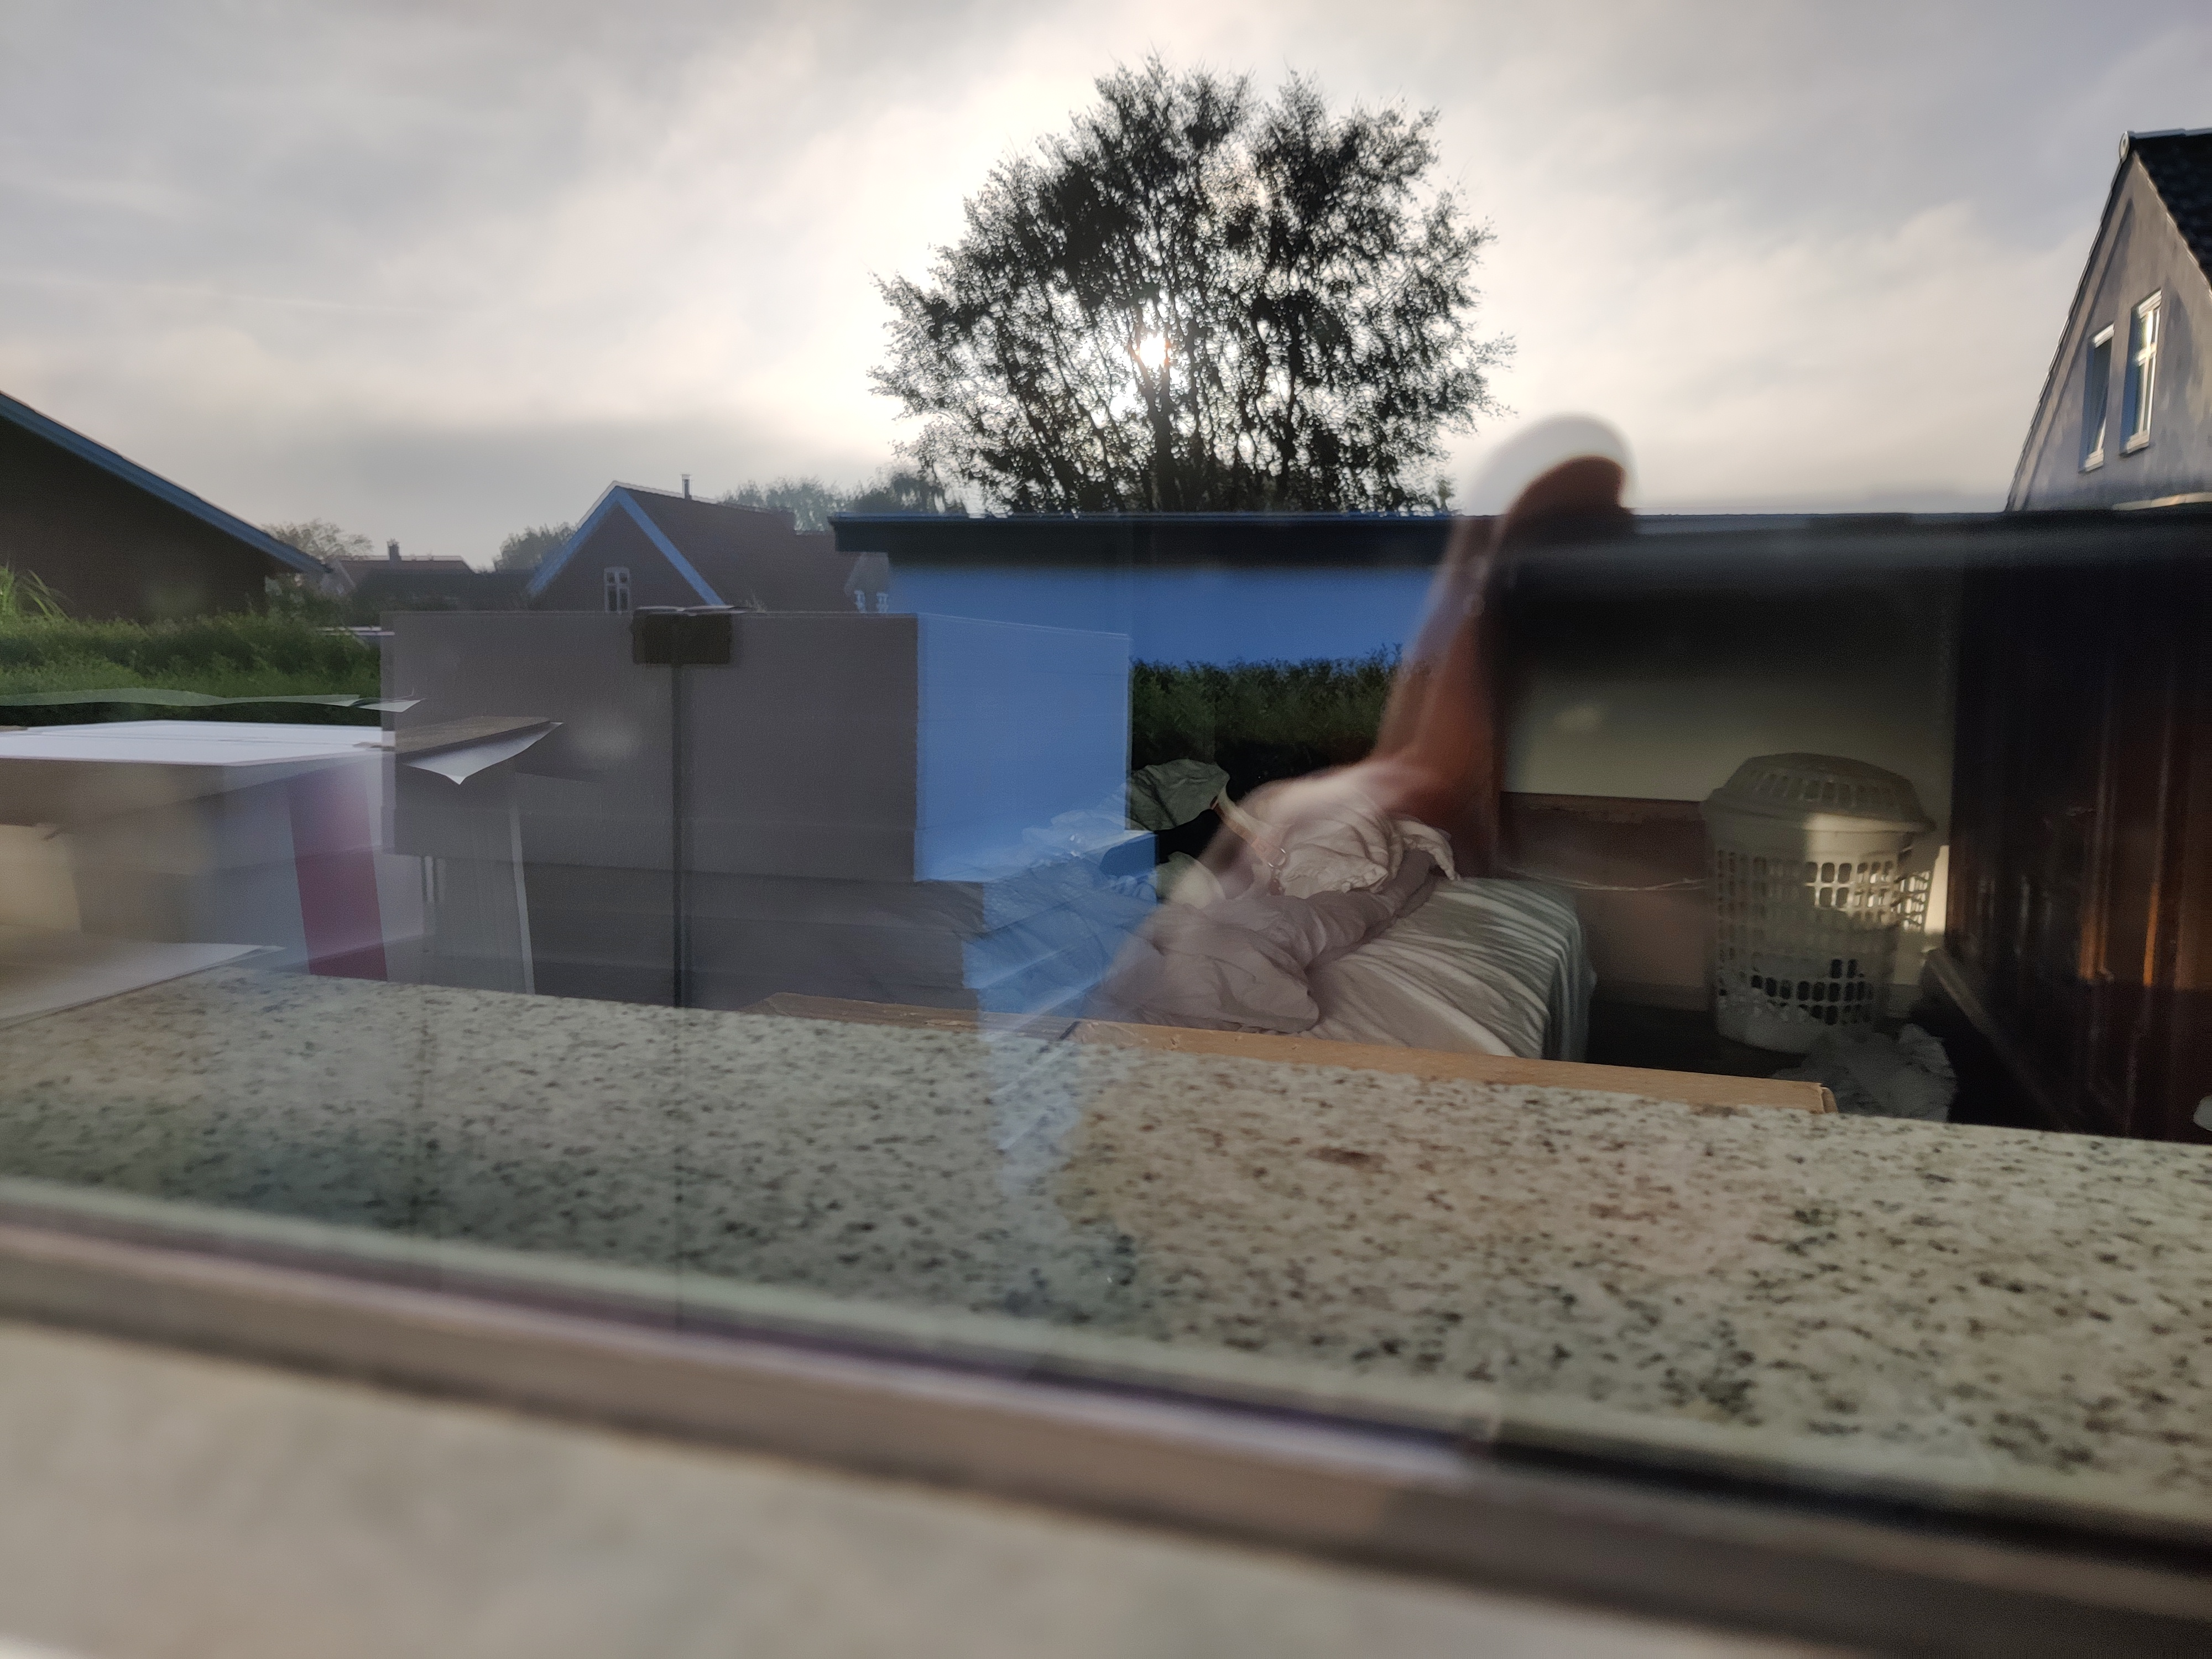Dog: (1096, 735, 1332, 910)
